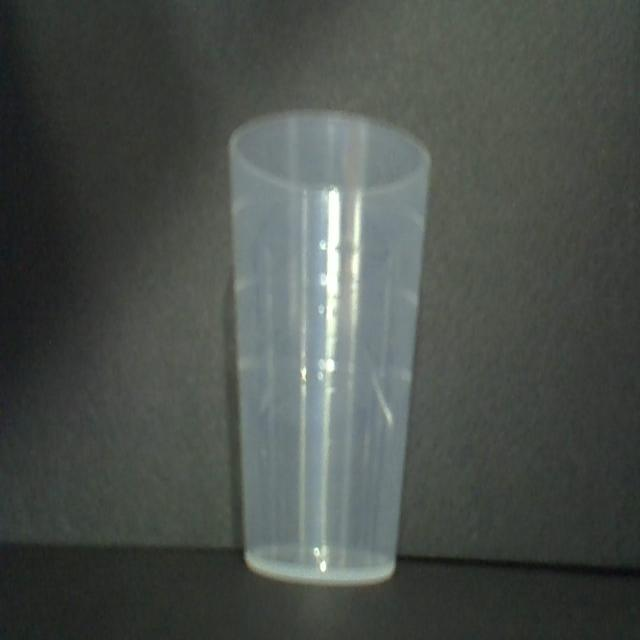cup: (228, 105, 431, 587)
